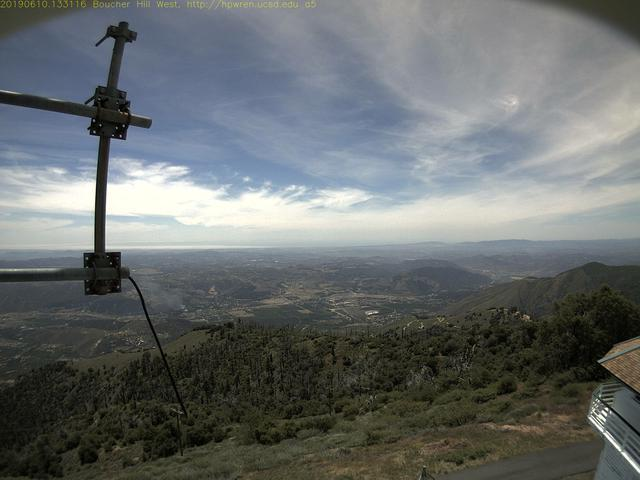smoke: (126, 272, 190, 312)
